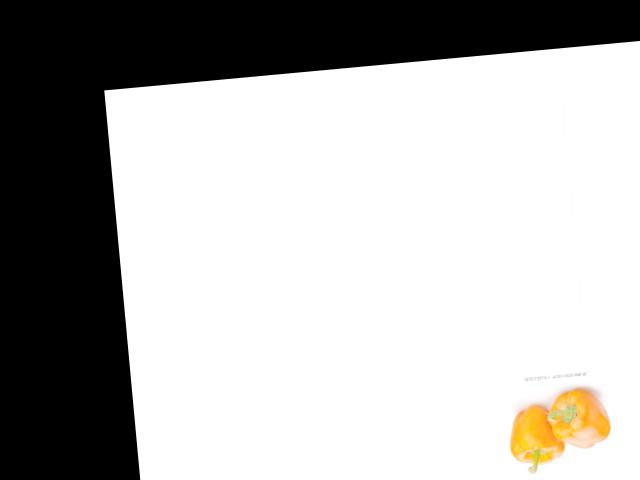bell_pepper: (542, 380, 614, 453)
